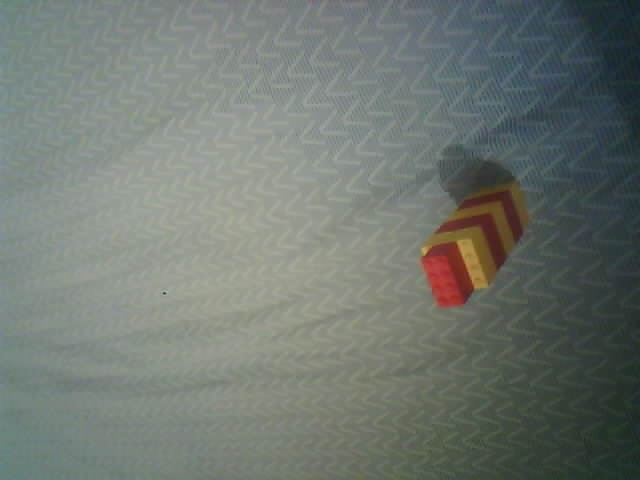lego: (418, 181, 530, 309)
